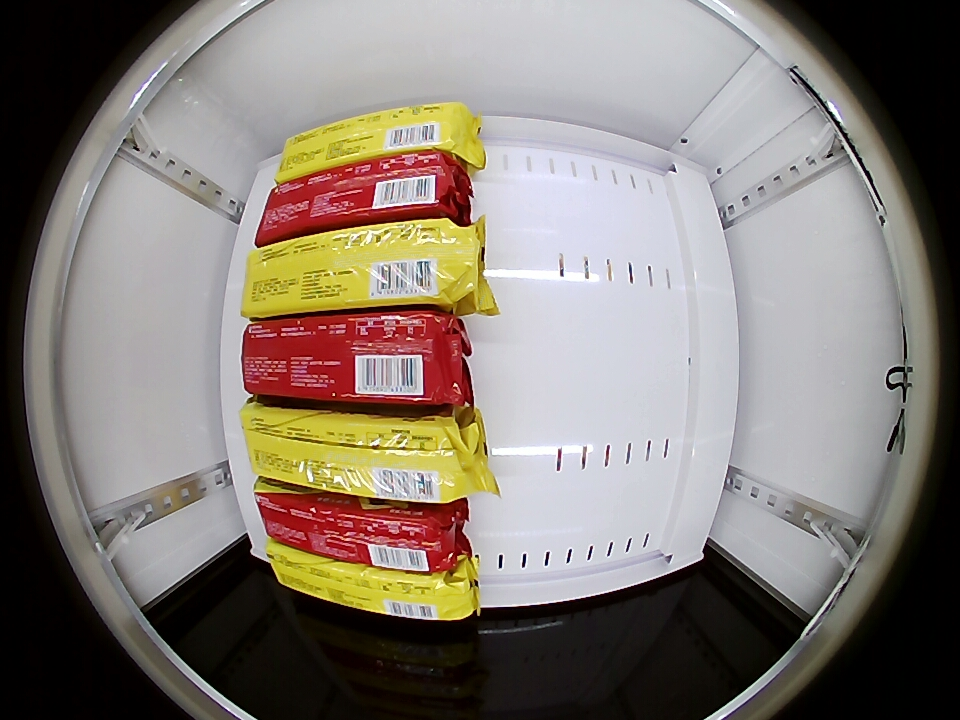3+2-2: (243, 218, 480, 317), (242, 405, 474, 503), (270, 549, 479, 622), (279, 103, 476, 175)
3jia2: (243, 311, 464, 406), (260, 153, 463, 240), (258, 491, 463, 570)
